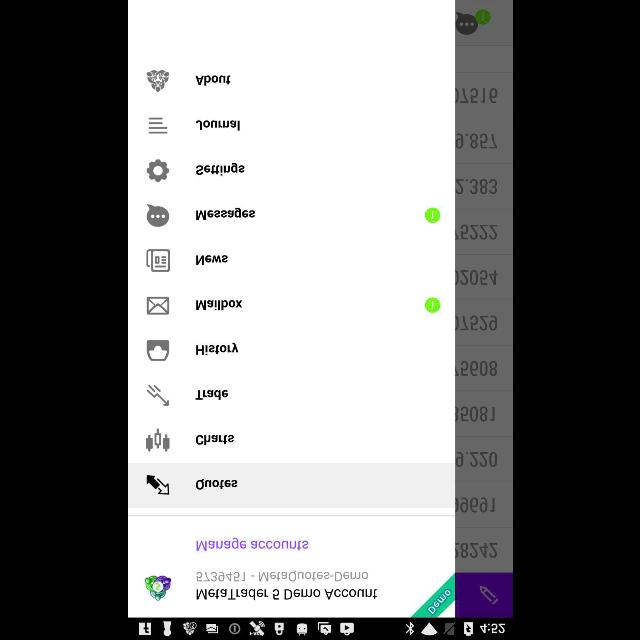icon: (146, 248, 170, 272), (146, 384, 170, 406), (146, 204, 168, 226), (146, 160, 168, 182), (146, 475, 170, 495), (146, 297, 168, 315), (148, 118, 166, 134)
image: (144, 575, 170, 601), (145, 428, 169, 452), (146, 70, 170, 92), (146, 340, 168, 360), (424, 297, 440, 313), (424, 208, 440, 222)
panel: (128, 0, 454, 618)
text: (196, 588, 377, 600), (195, 570, 367, 582), (195, 538, 308, 550), (196, 208, 254, 220), (194, 162, 243, 175), (196, 342, 238, 356), (195, 478, 237, 489), (194, 120, 240, 130), (196, 300, 242, 310), (195, 434, 233, 446), (194, 74, 230, 86), (195, 254, 227, 266), (195, 390, 228, 400)
uppertaskbar: (128, 617, 512, 639)
